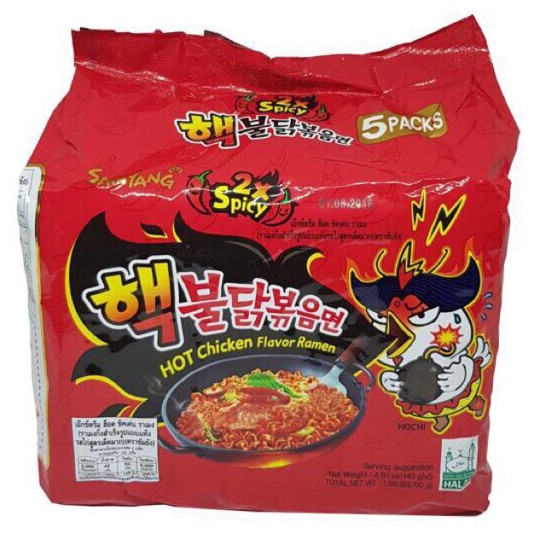Snack: (15, 11, 526, 524)
